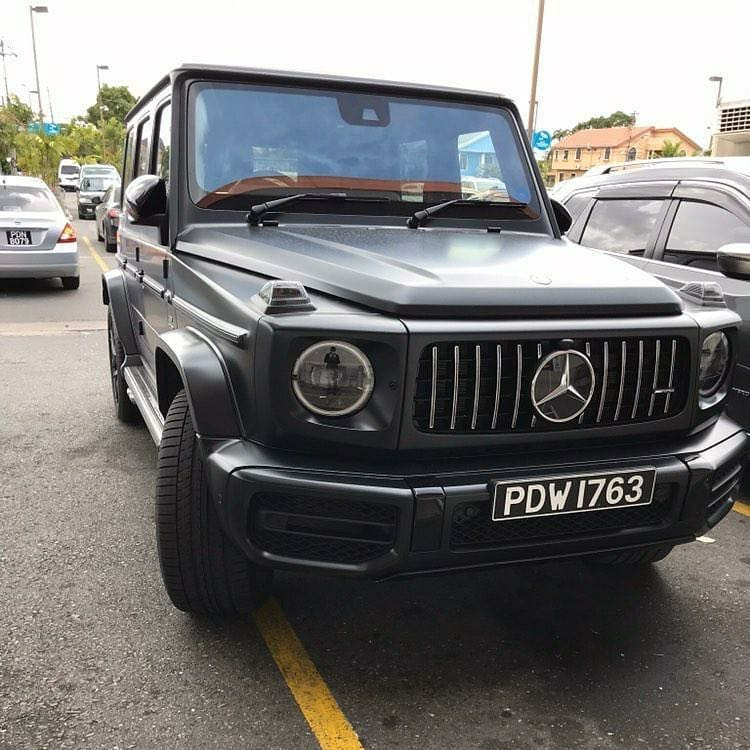License-Plate: (498, 484, 645, 517), (6, 230, 30, 245)
